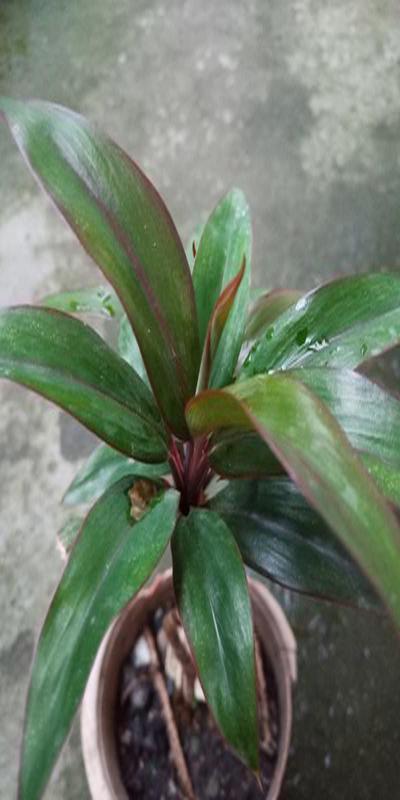Baston de san jose: (7, 81, 397, 765)
